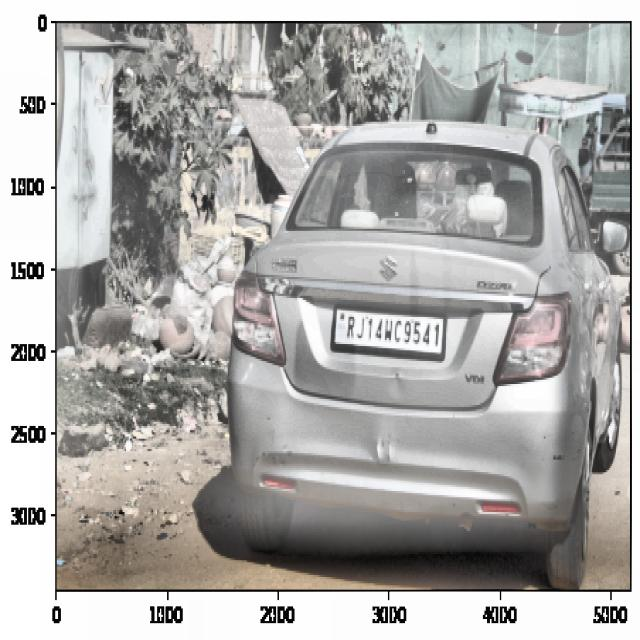license_plate: (341, 307, 446, 355)
